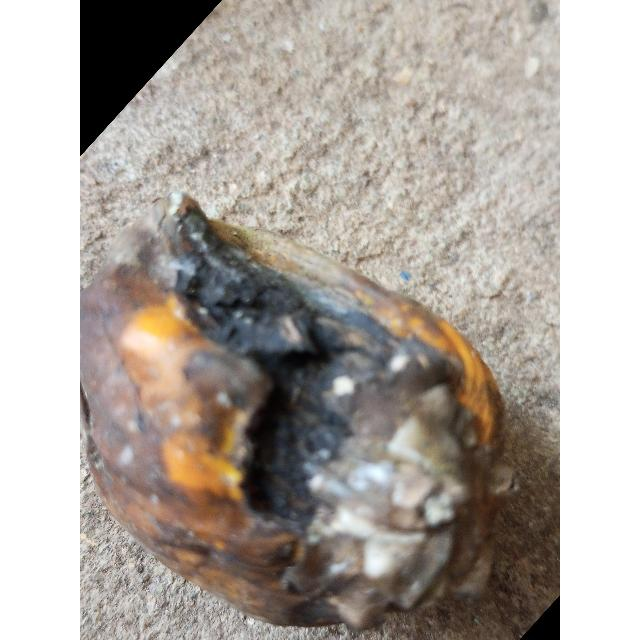damaged: (80, 192, 514, 629)
